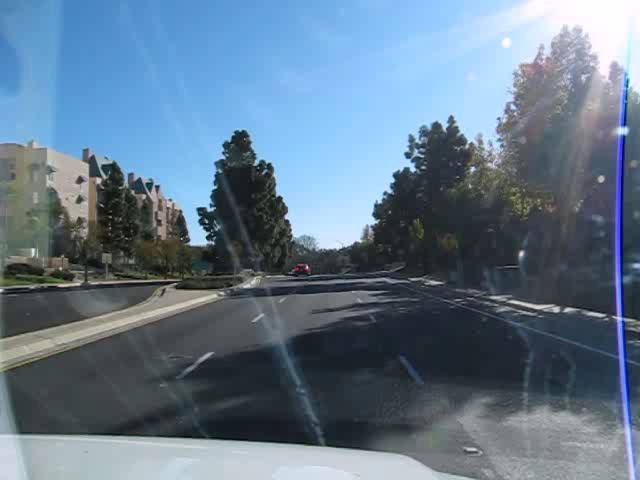signalAhead: (225, 240, 245, 259)
